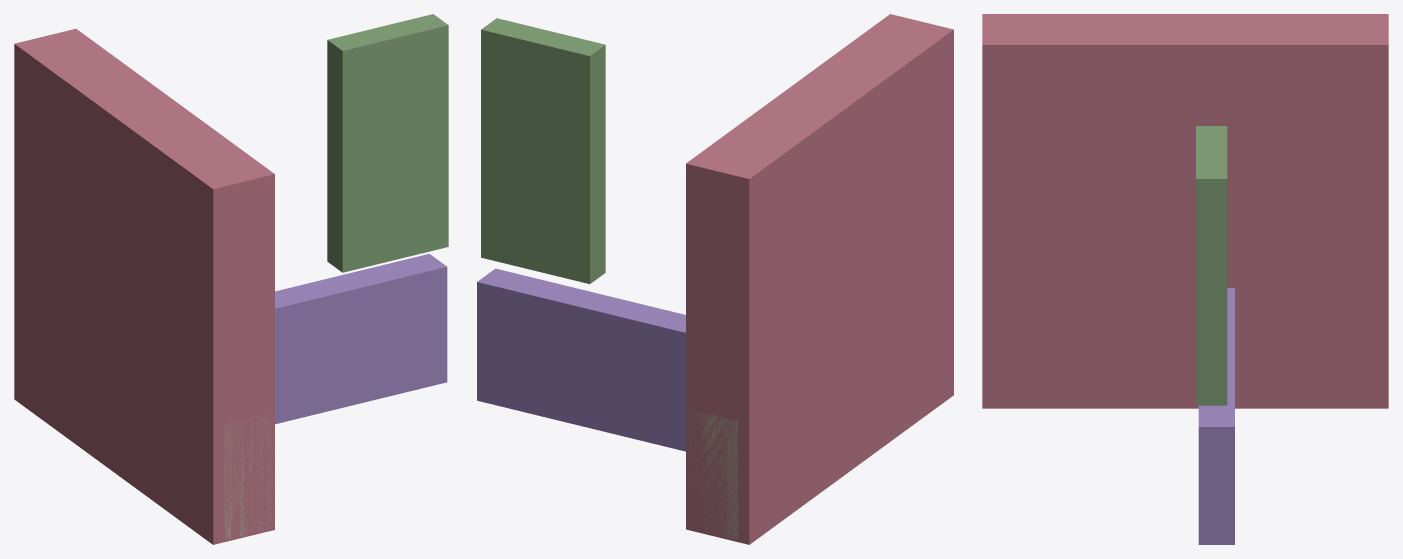
The model's file is 199526_pred.glb.
The picture shows the model from 3 angles, left to right: view 1: azimuth 30°, elevation 25°; view 2: azimuth 150°, elevation 25°; view 3: azimuth 270°, elevation 25°; orthographic projection. The views are drawn at different scales.
Parts seen in each view (by area): view 1: world; view 2: world; view 3: world.
Boxes of the visible parts, <box> form: world: <box>14,14,448,544</box>; world: <box>477,14,953,544</box>; world: <box>982,14,1388,544</box>.
Size of the model in its own units: 7.7 by 7.8 by 7.8.
